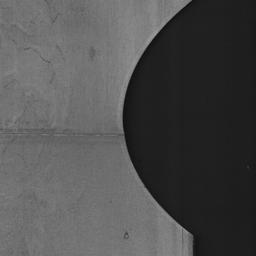Crescent gap: (123, 0, 193, 237)
